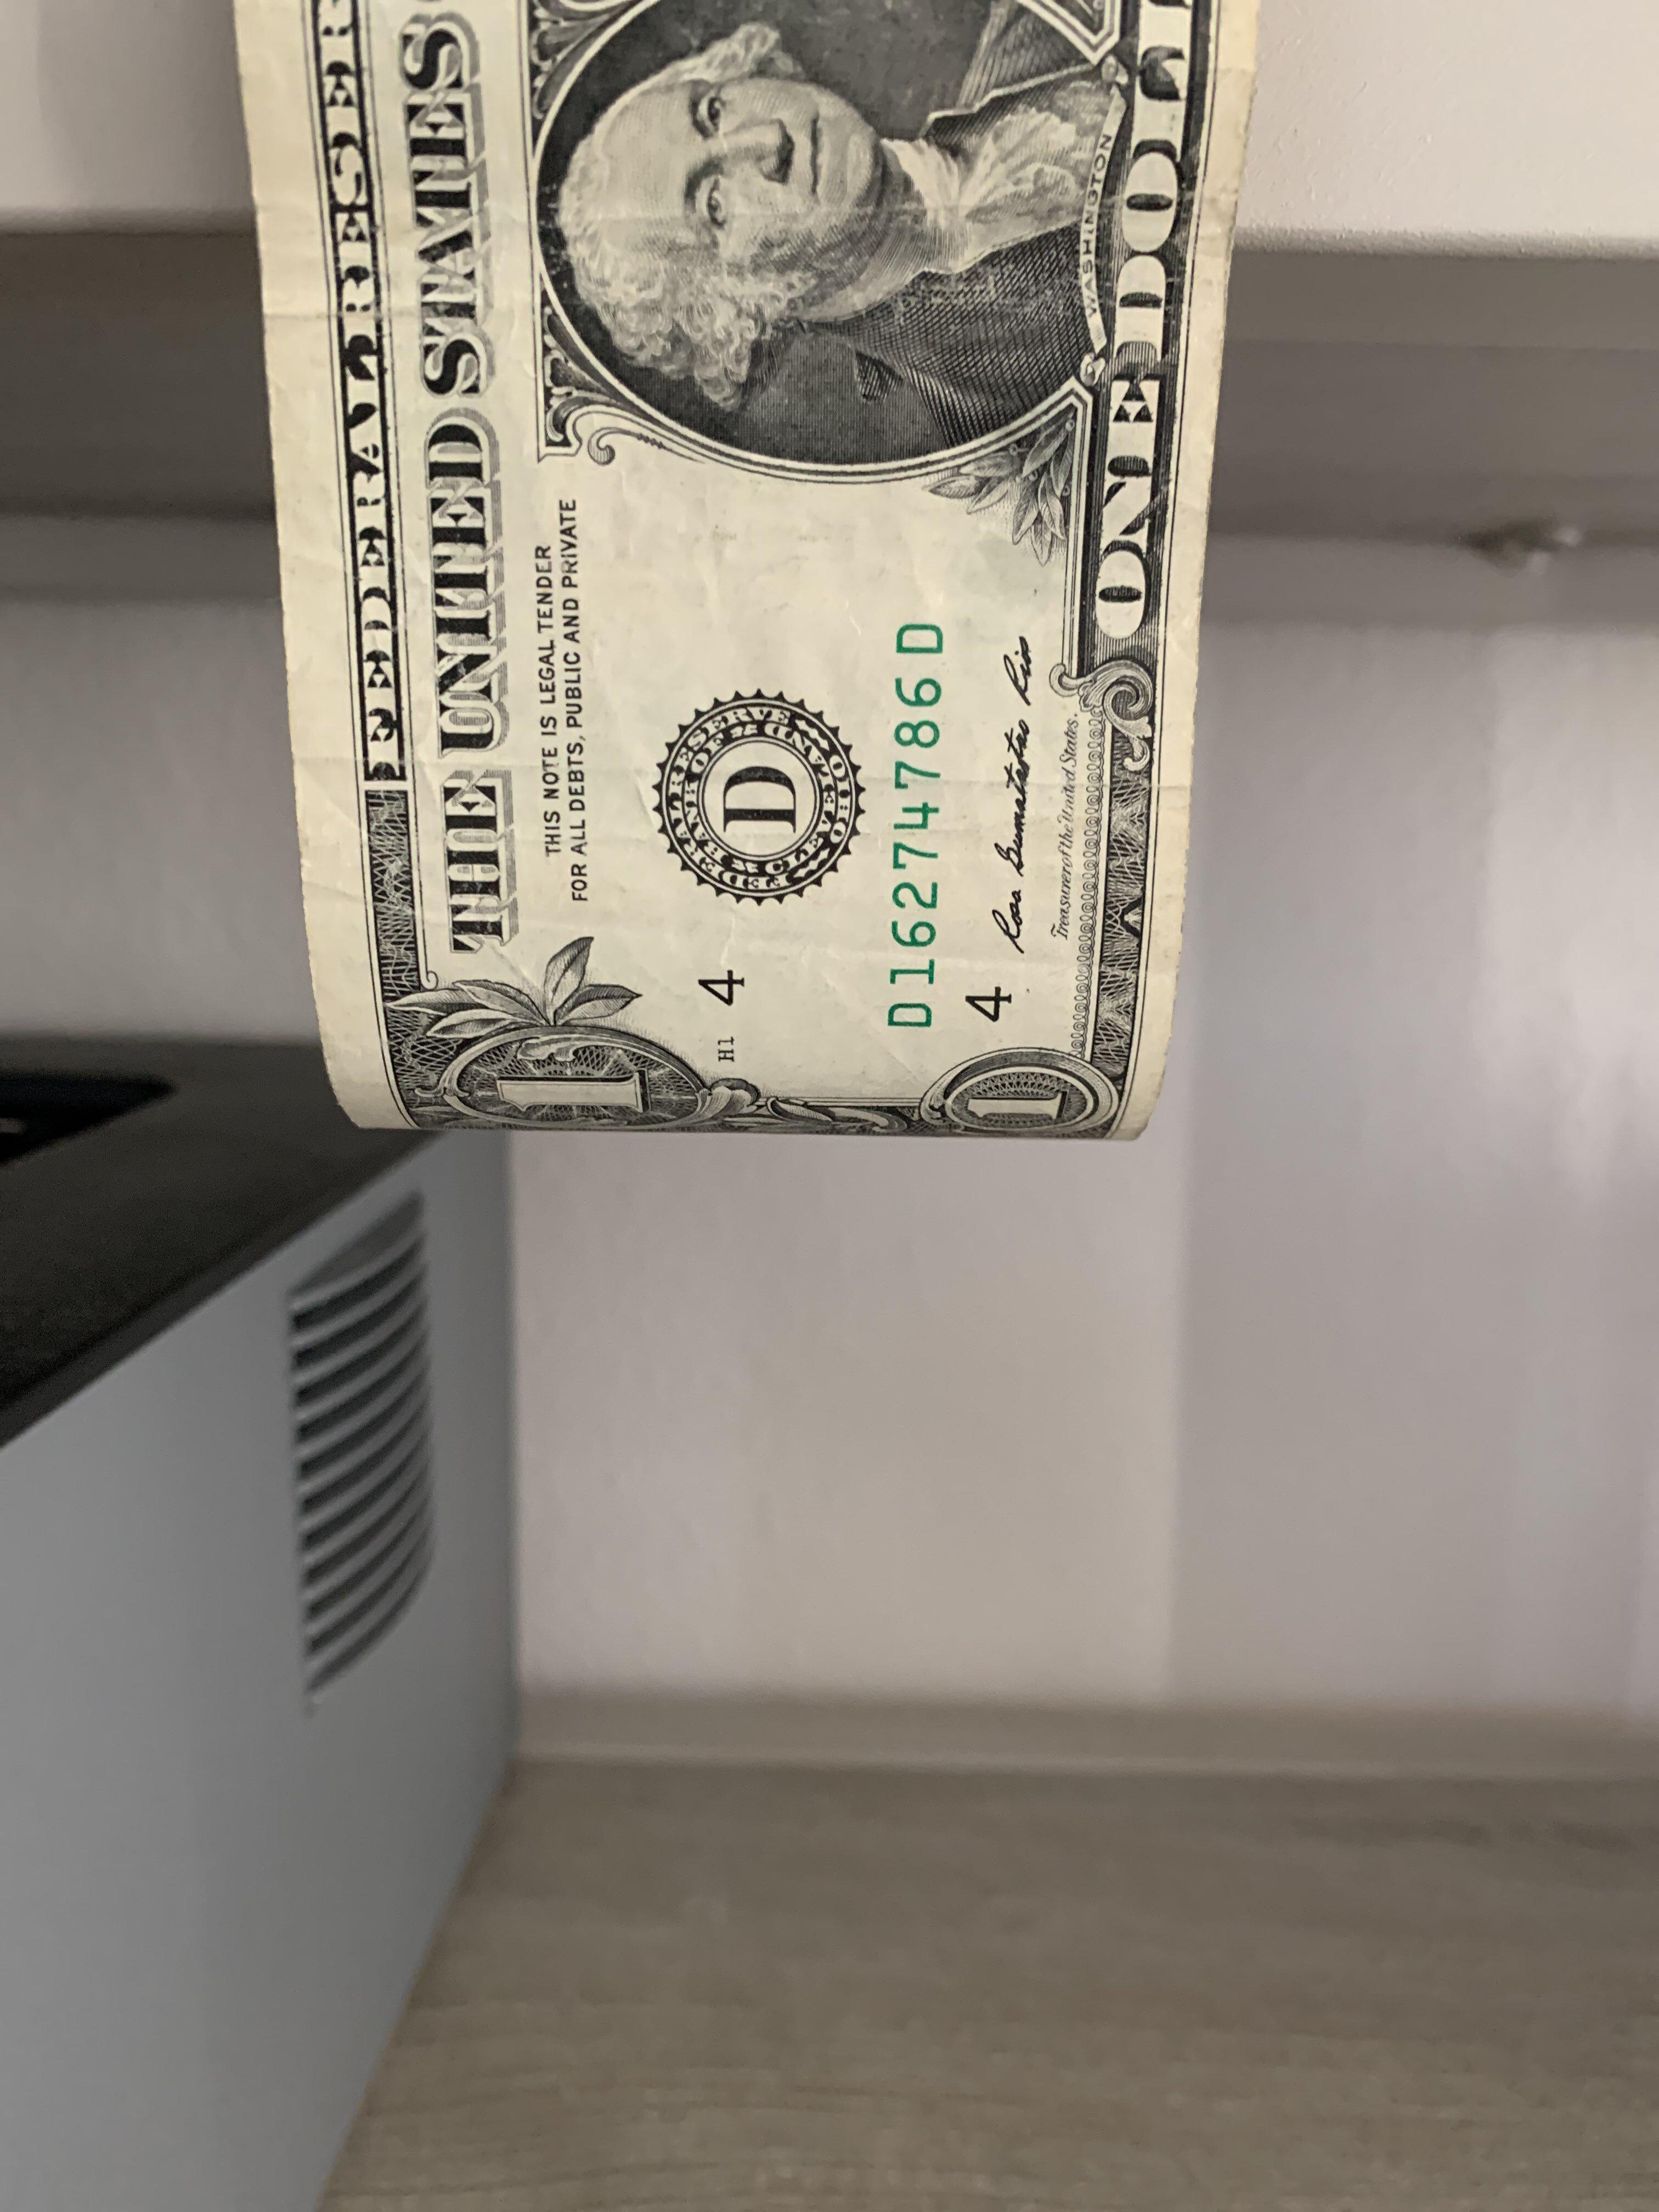OneBill: (228, 3, 1283, 1224)
